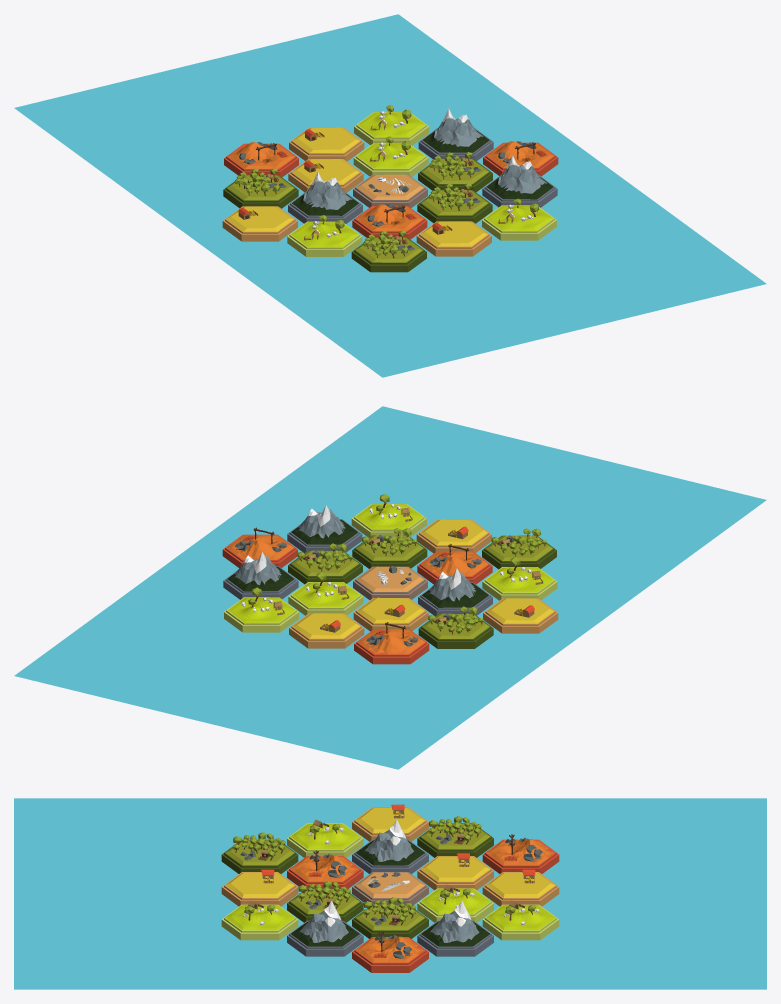
3 views of the same model, one above another, from view 1: azimuth 30°, elevation 25°; view 2: azimuth 150°, elevation 25°; view 3: azimuth 270°, elevation 25° (orthographic). The views are drawn at different scales.
Parts seen in each view (by area): view 1: Plane.002, Plane.068, Plane.066, Plane.001, Plane.132, Plane.072, Plane.102, Plane.129, Plane.069, Plane.000, Plane.059, Plane.003 (+25 smaller); view 2: Plane.002, Plane.068, Plane.001, Plane.066, Plane.102, Plane.069, Plane.059, Plane.030, Plane.129, Plane.000, Plane.072, Plane.003 (+25 smaller); view 3: Plane.002, Plane.001, Plane.068, Plane.066, Plane.030, Plane.059, Plane.072, Plane.000, Plane.069, Plane.132, Plane.003, Plane.102 (+27 smaller).
Part boxes in pixels (x1,y1,x2,y2): Plane.002: (14,14,766,377); Plane.068: (486,155,553,199); Plane.066: (422,108,489,152); Plane.001: (292,172,358,215); Plane.132: (358,112,425,137); Plane.072: (421,221,487,246); Plane.102: (227,206,293,231); Plane.129: (357,143,424,168); Plane.069: (485,205,552,230); Plane.000: (291,222,358,247); Plane.059: (293,127,359,153); Plane.003: (357,174,423,199); Plane.002: (14,406,766,769); Plane.068: (291,505,357,544); Plane.001: (422,568,488,607); Plane.066: (227,552,293,591); Plane.102: (487,598,553,623); Plane.069: (355,504,422,529); Plane.059: (293,613,359,638); Plane.030: (357,597,424,623); Plane.129: (292,582,359,607); Plane.000: (486,567,553,592); Plane.072: (421,519,487,545); Plane.003: (357,566,423,591); Plane.002: (14,798,766,989); Plane.001: (356,819,424,865); Plane.068: (291,900,359,946); Plane.066: (421,900,489,946); Plane.030: (421,856,489,881); Plane.059: (486,872,555,897); Plane.072: (225,872,294,897); Plane.000: (290,824,359,849); Plane.069: (225,905,294,930); Plane.132: (486,905,555,930); Plane.003: (356,872,424,897); Plane.102: (356,807,424,832).
Size of the model in its own units: 11.82 by 1.46 by 19.62.
